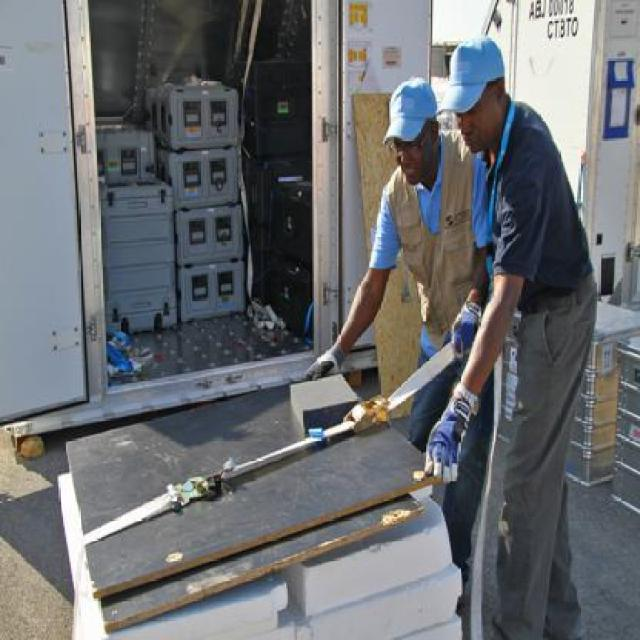Person: (424, 35, 598, 639), (301, 73, 496, 607)
